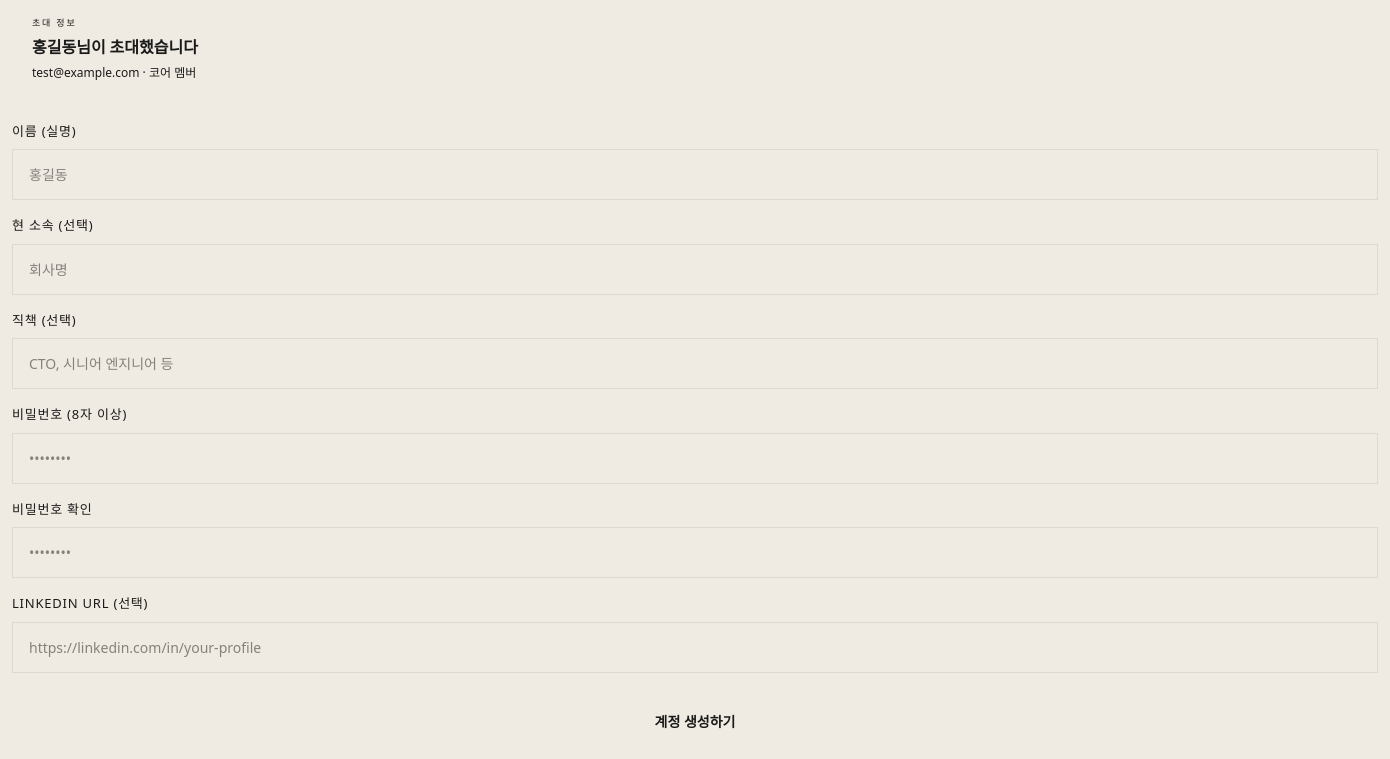
Test case: InviteAcceptForm › shows password mismatch error
The image size is (1390, 759).
Expected: the text "홍길동님이 초대했습니다" is shown, [32,38,198,56]
Step 1. Type "김철수" into the field with placeholder "홍길동" → (695, 174), box [12,149,1378,200]
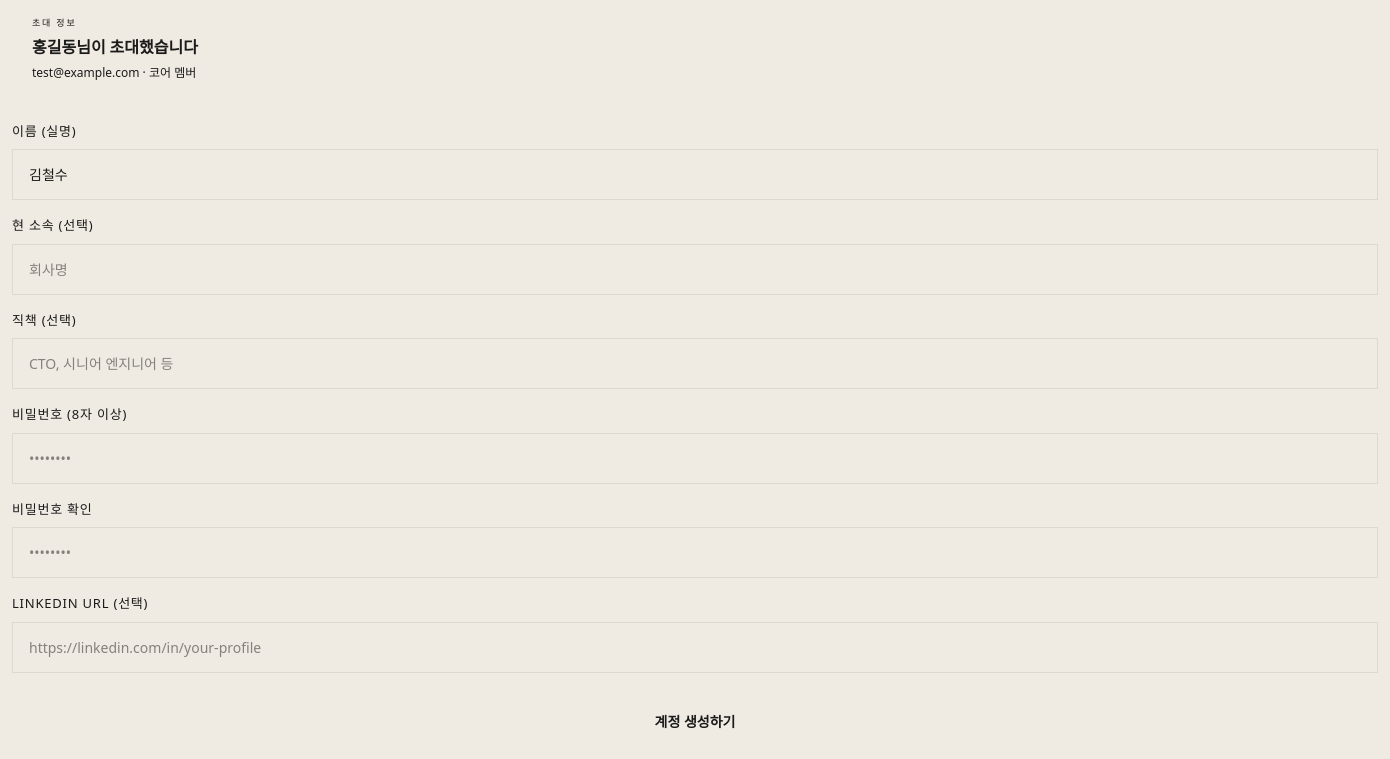
Step 2. Type "password123" into the password field with placeholder "••••••••" below "비밀번호 (8자 이상)" → (695, 458), box [12,432,1378,484]
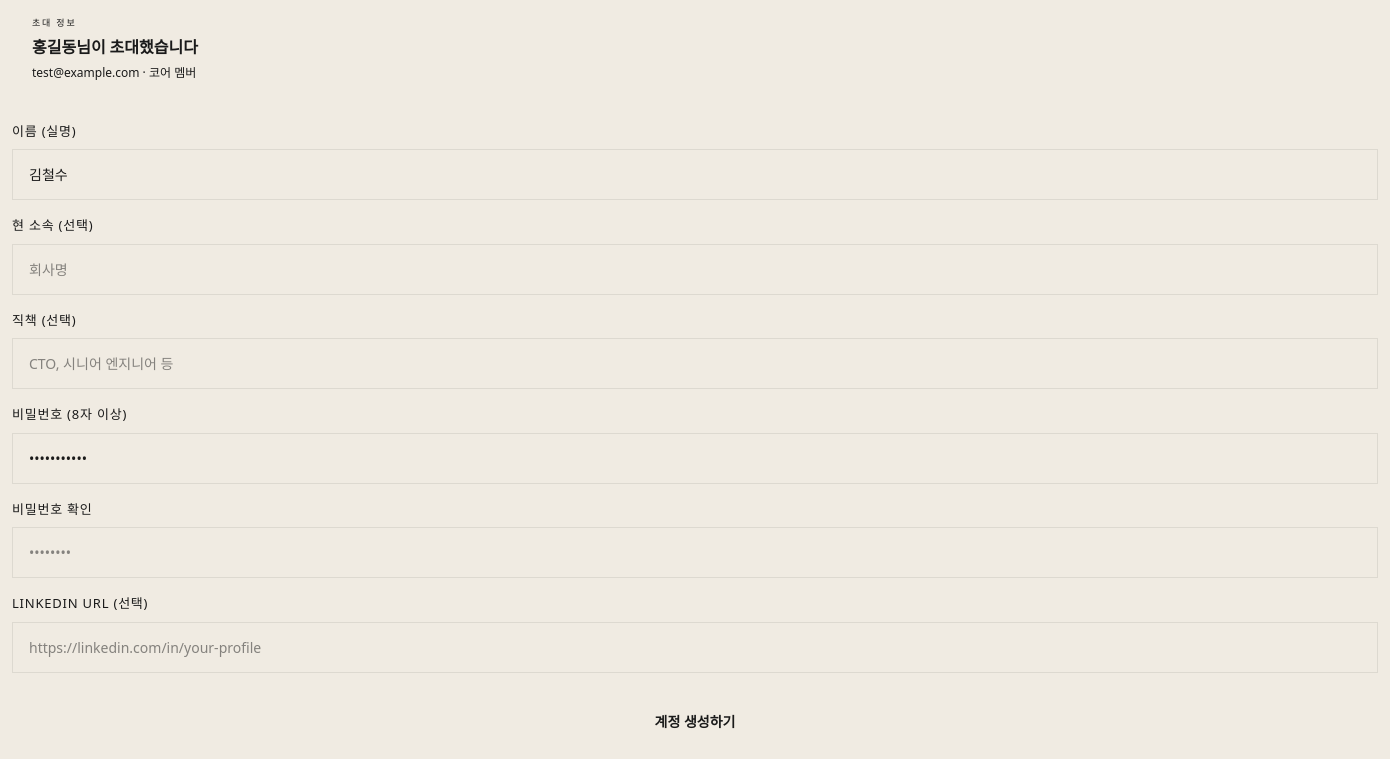
Step 3. Type "different456" into the password field with placeholder "••••••••" → (695, 552), box [12,527,1378,578]
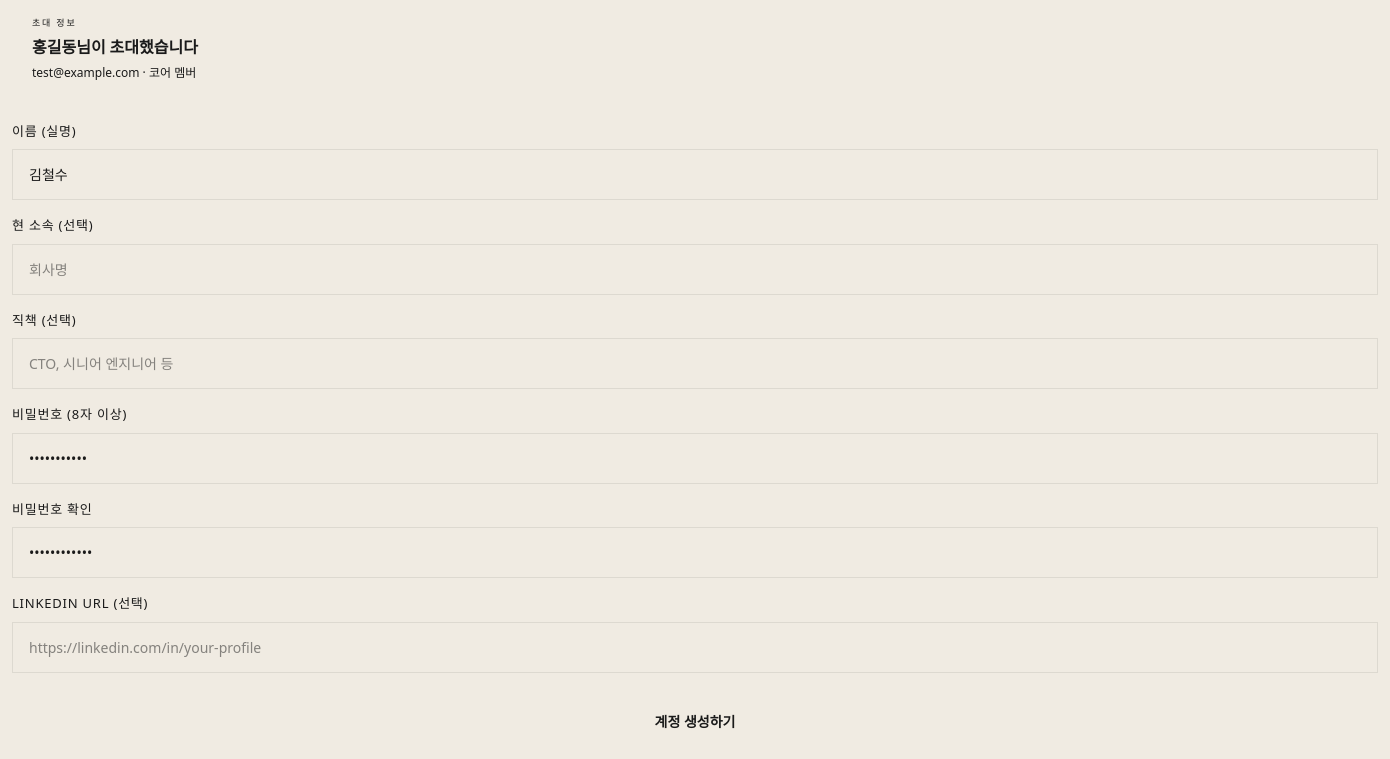
Step 4. Click the button "계정 생성하기" → (695, 721), box [12,696,1378,746]
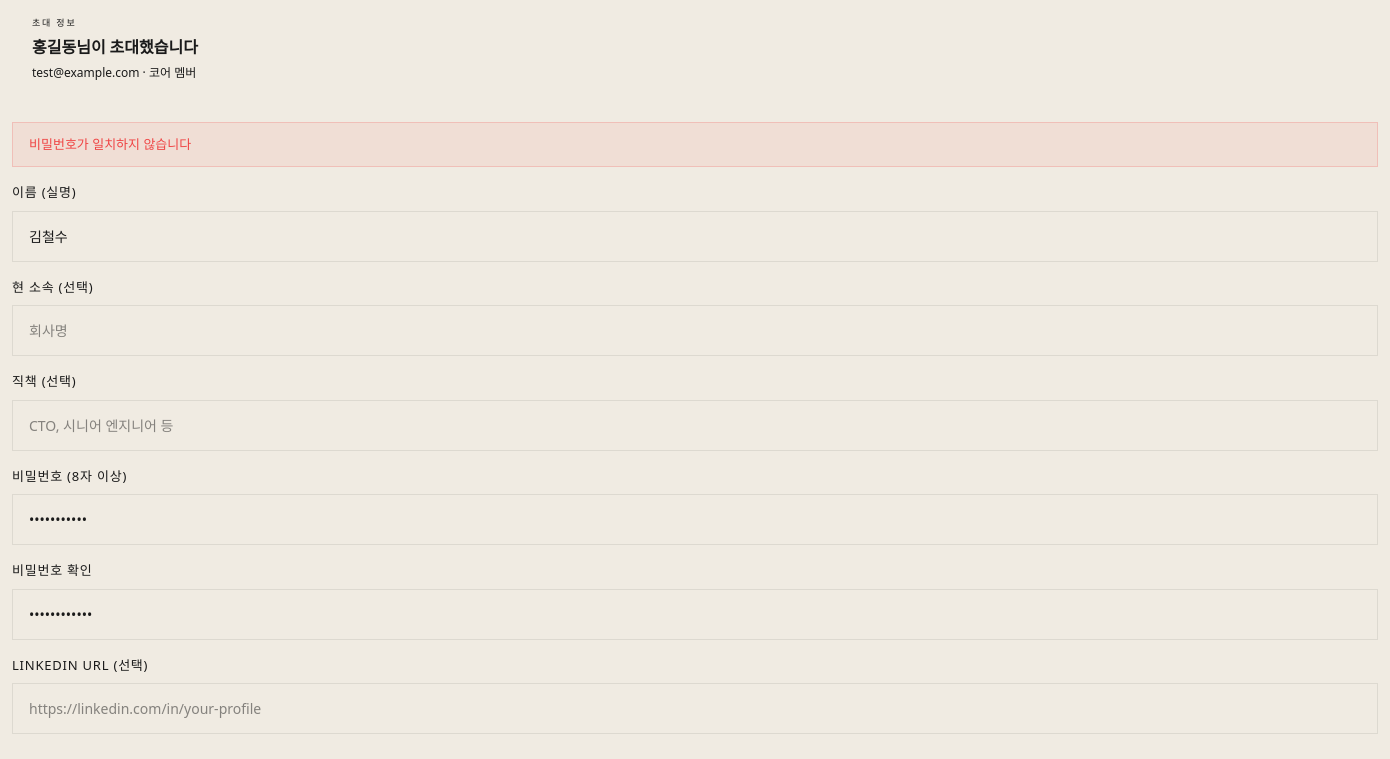
Now the text "비밀번호가 일치하지 않습니다" is shown, box [12,122,1378,167]
